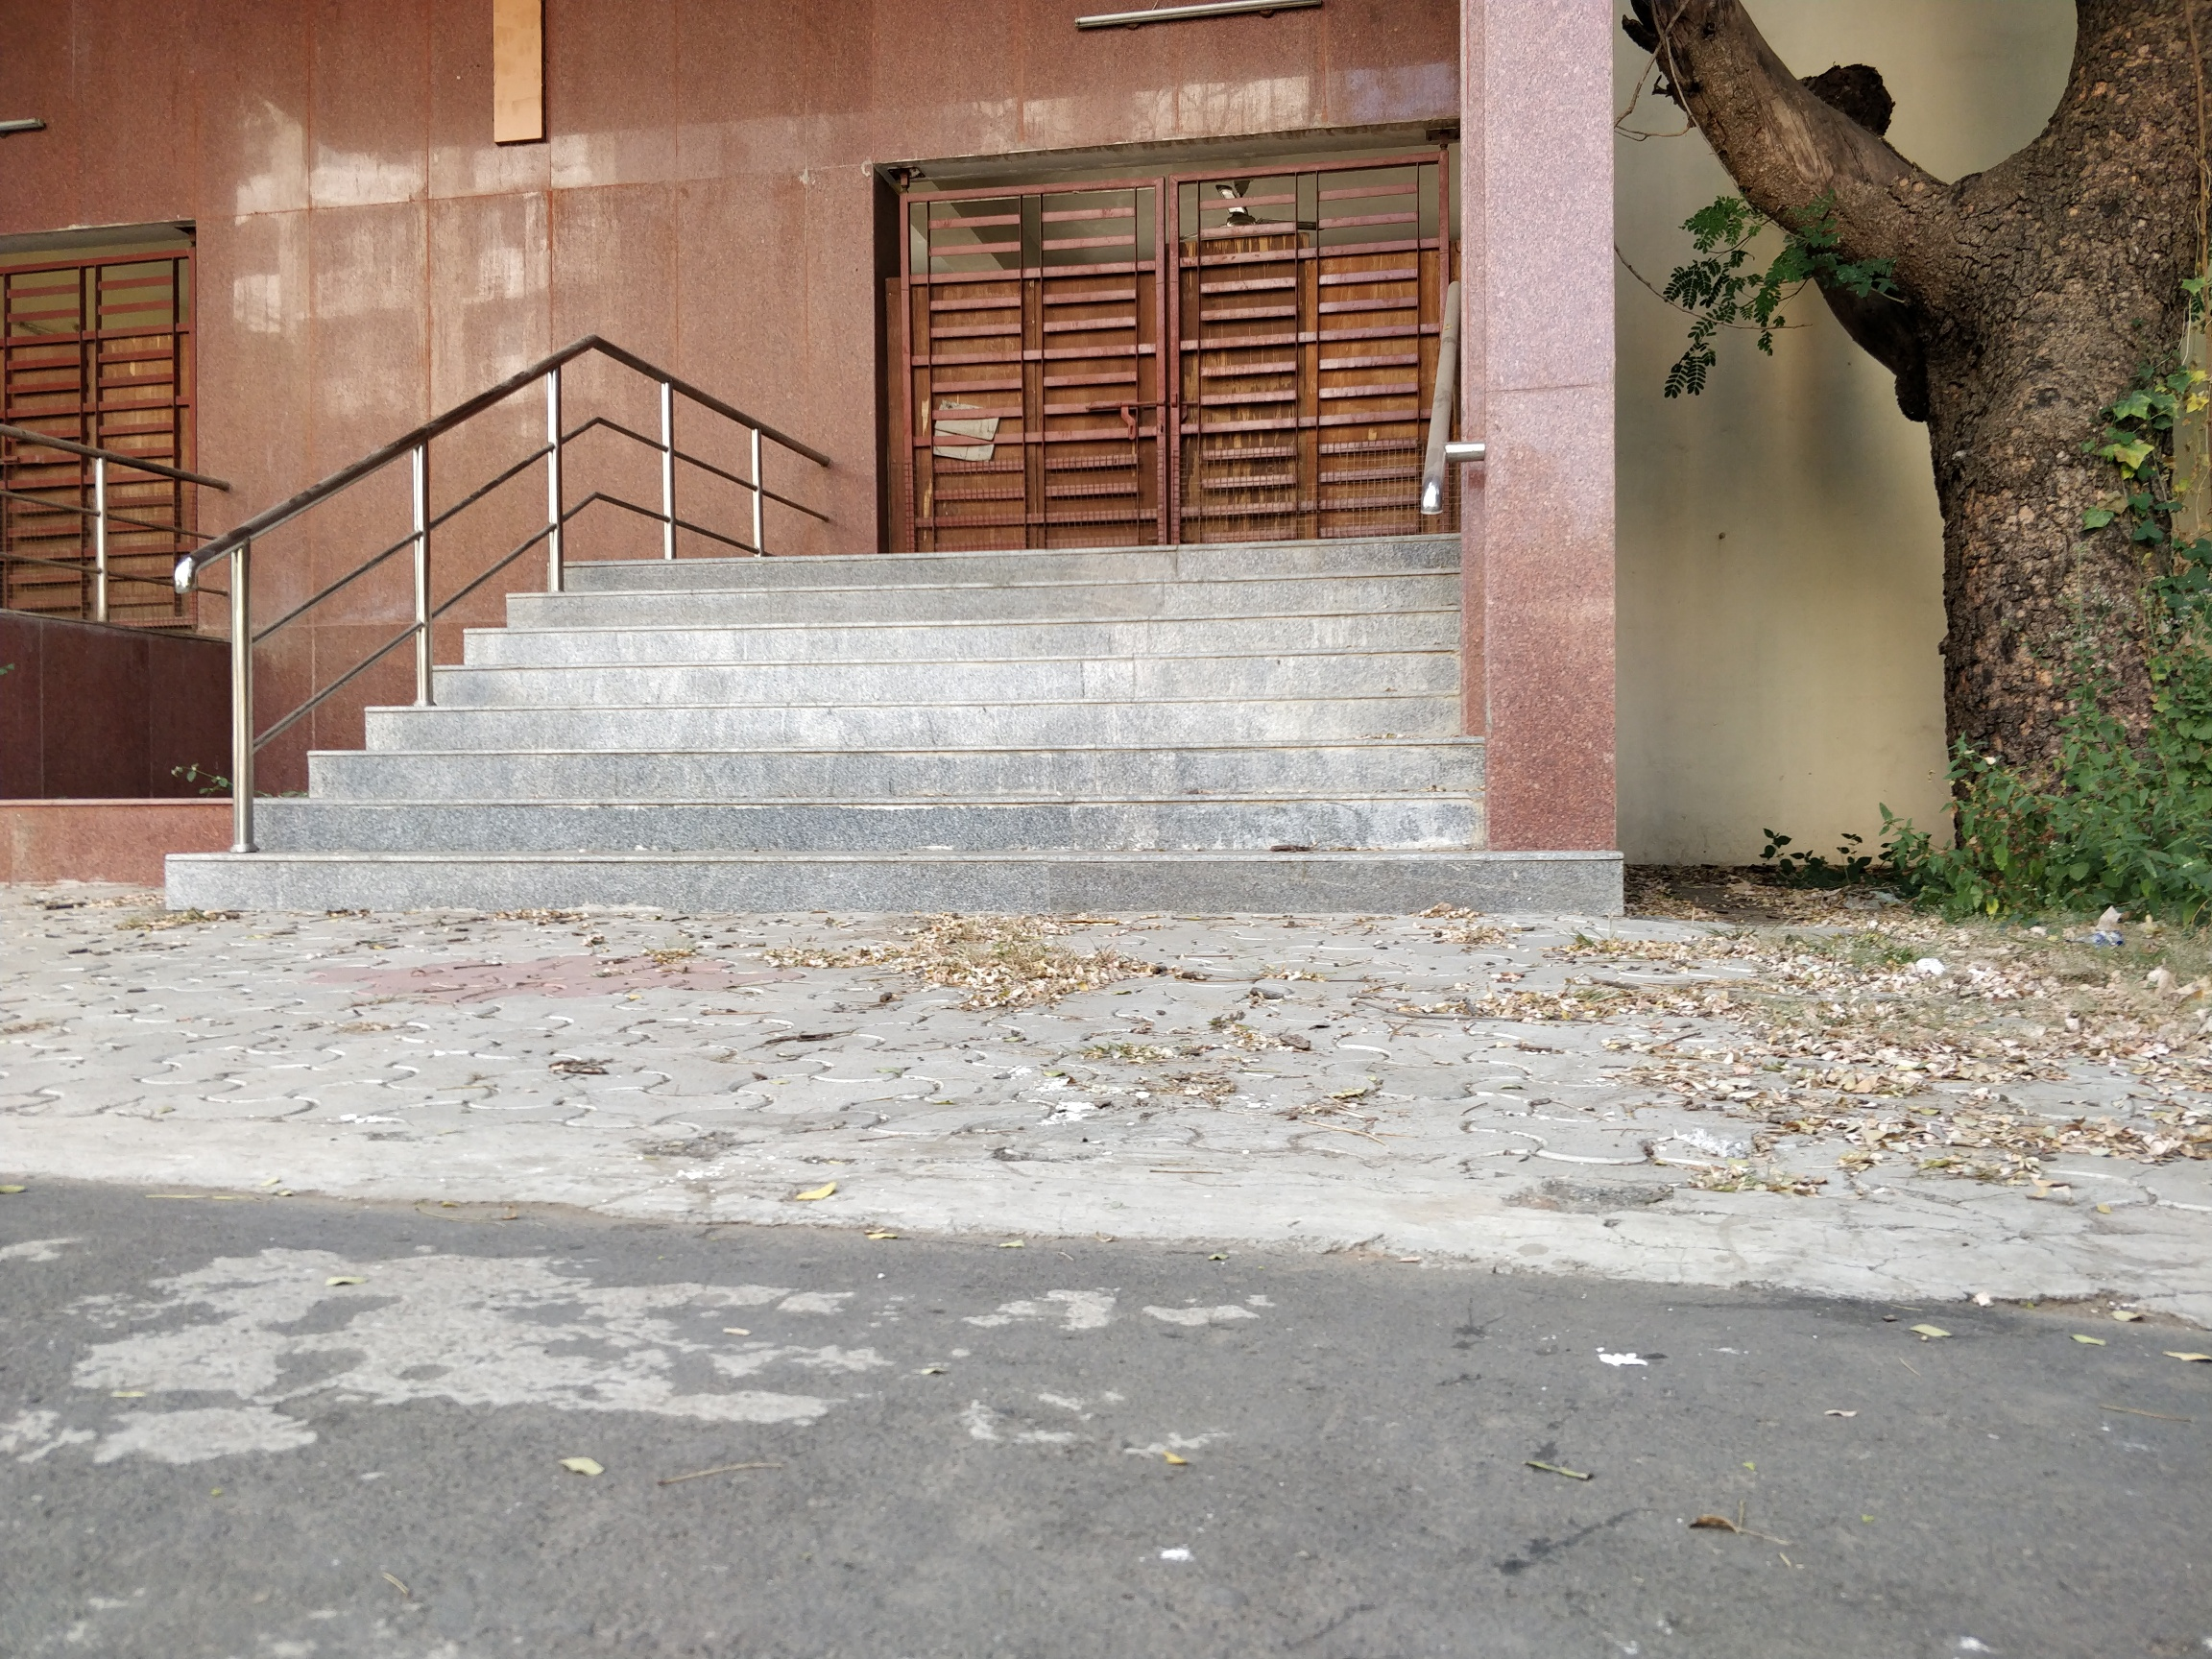stairs_up: (251, 547, 1482, 904)
